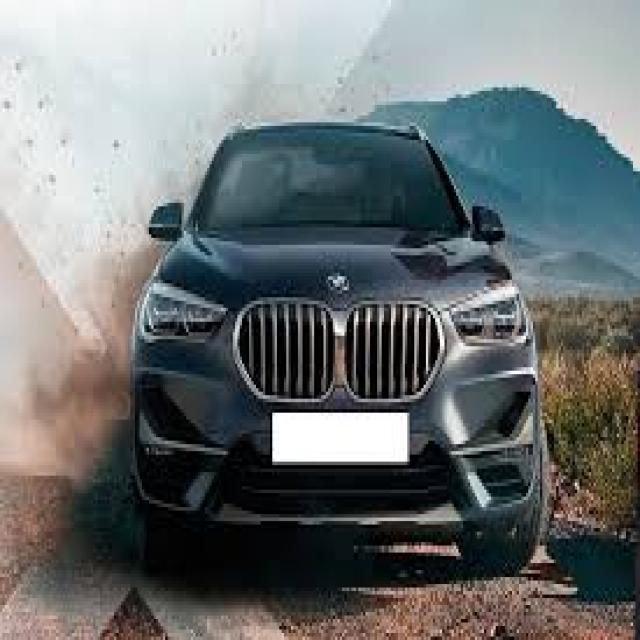car: (128, 125, 556, 551)
